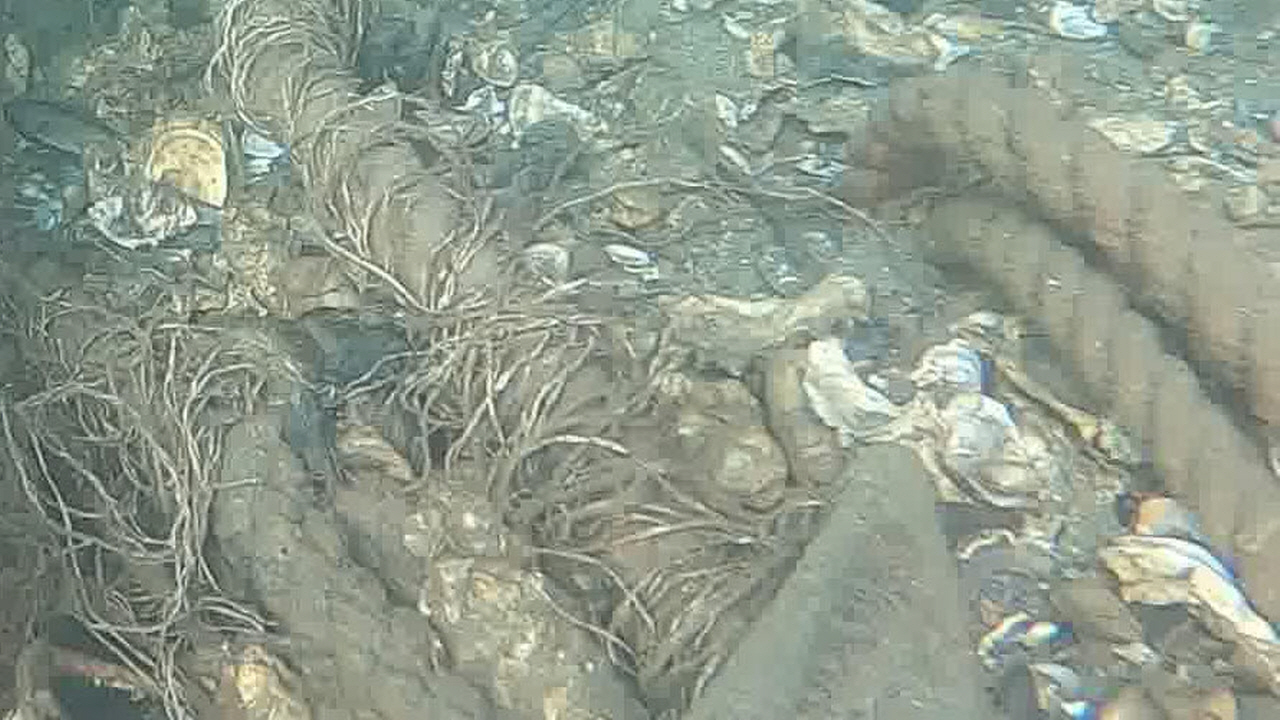bundle of ropes: (847, 56, 1280, 626)
rope: (200, 406, 484, 719)
